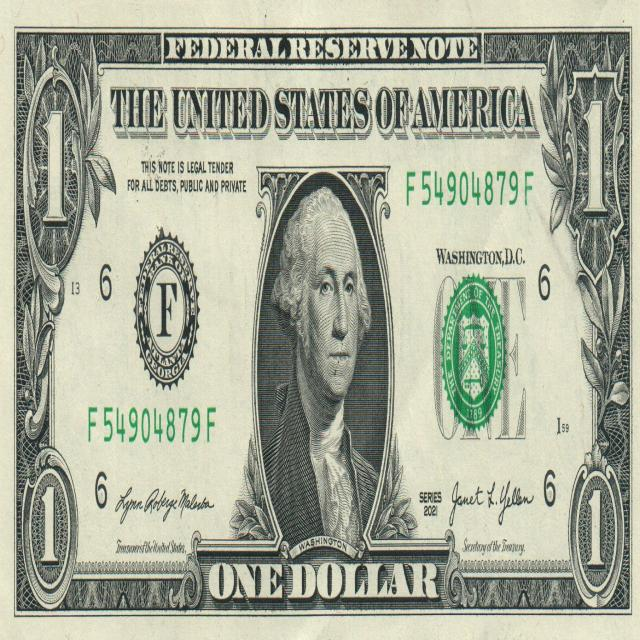SerialNumber: (89, 407, 215, 443), (406, 170, 533, 205)
